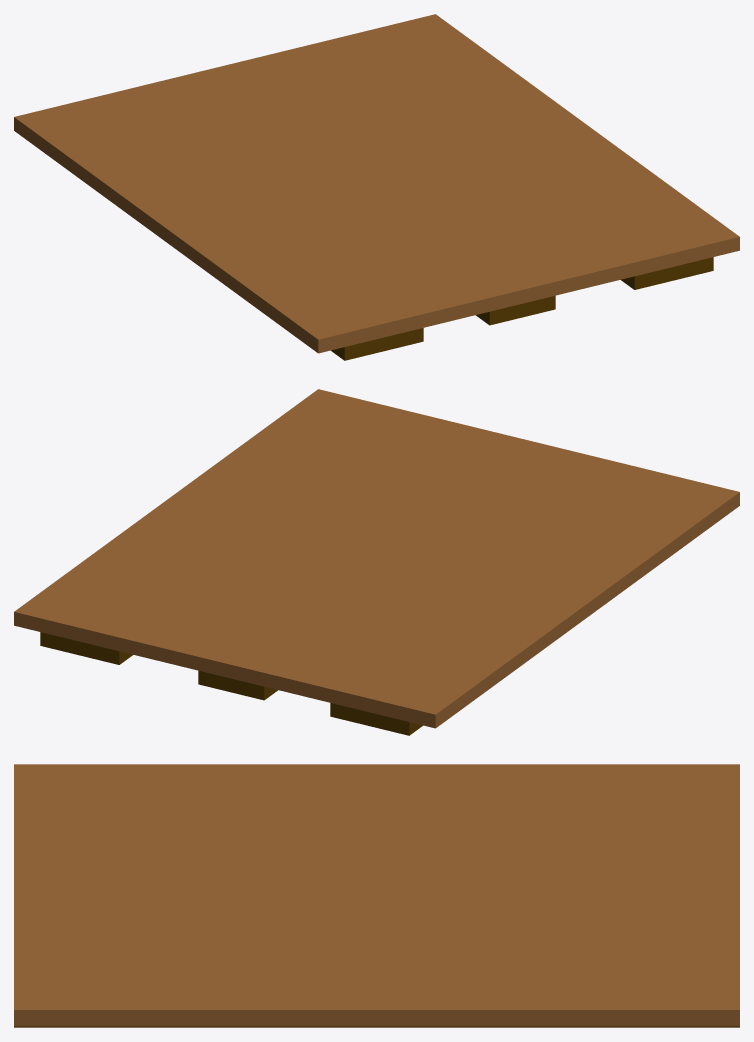
File: LampAndRoof-1.obj
The picture shows the model from 3 angles, top to bottom: view 1: azimuth 30°, elevation 25°; view 2: azimuth 150°, elevation 25°; view 3: azimuth 270°, elevation 25°; orthographic projection. The views are drawn at different scales.
Bounding box in the file's own units: 3.2 × 0.3 × 4.
1 material, 1 textured.
